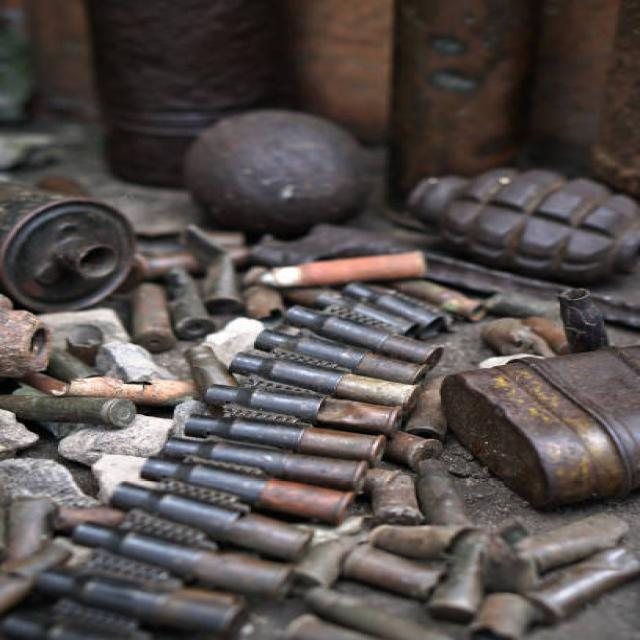grenade: (404, 159, 640, 284)
